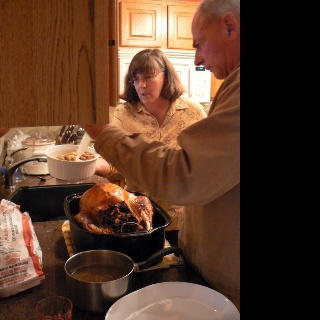without_mask: (190, 16, 227, 81), (135, 63, 165, 107)
